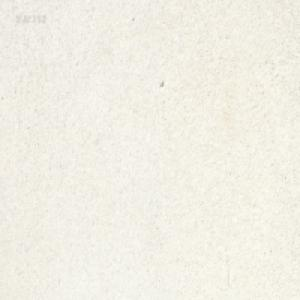Wrench: (205, 0, 212, 5)
